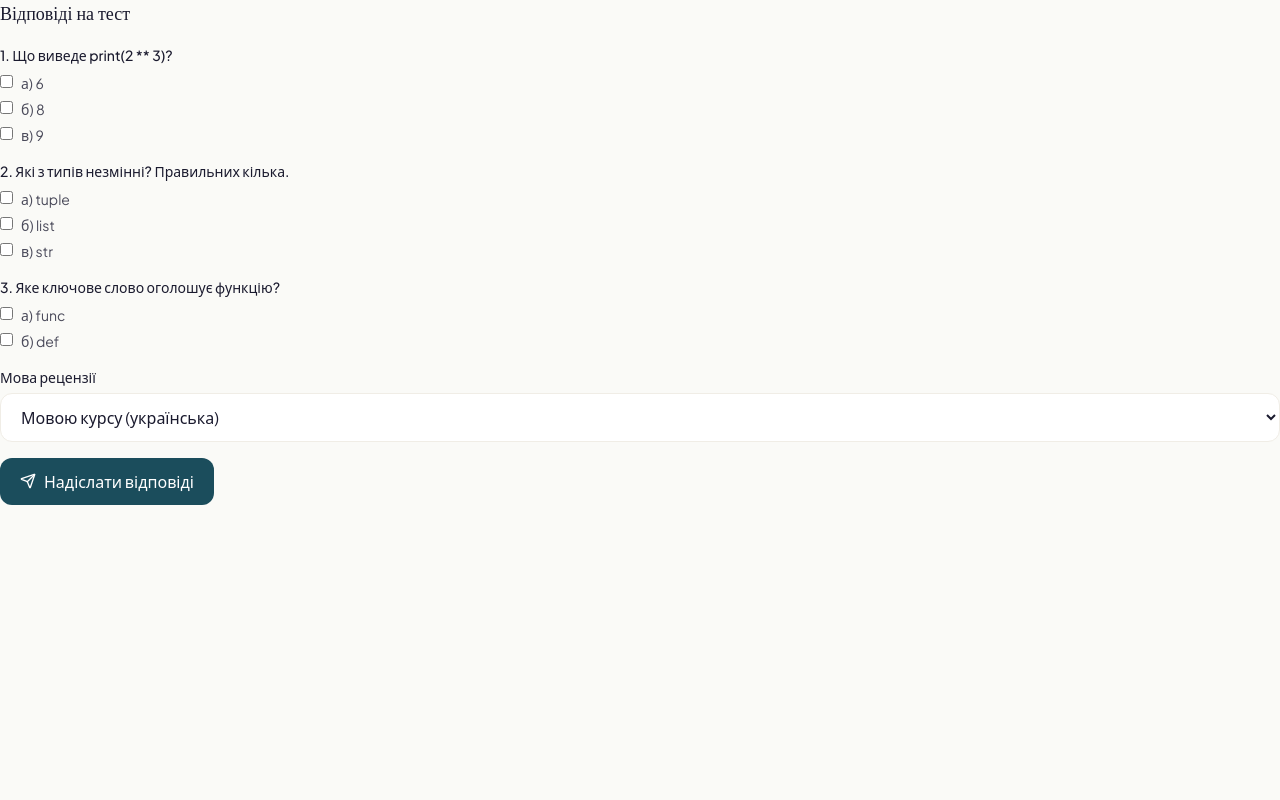
Test: PortalTestForm — підтвердження для питань без позначки › asks first, naming the questions left blank and that they count as wrong
Click the checkbox labelled "б) 8" at point(6, 107), box [0,101,13,114]
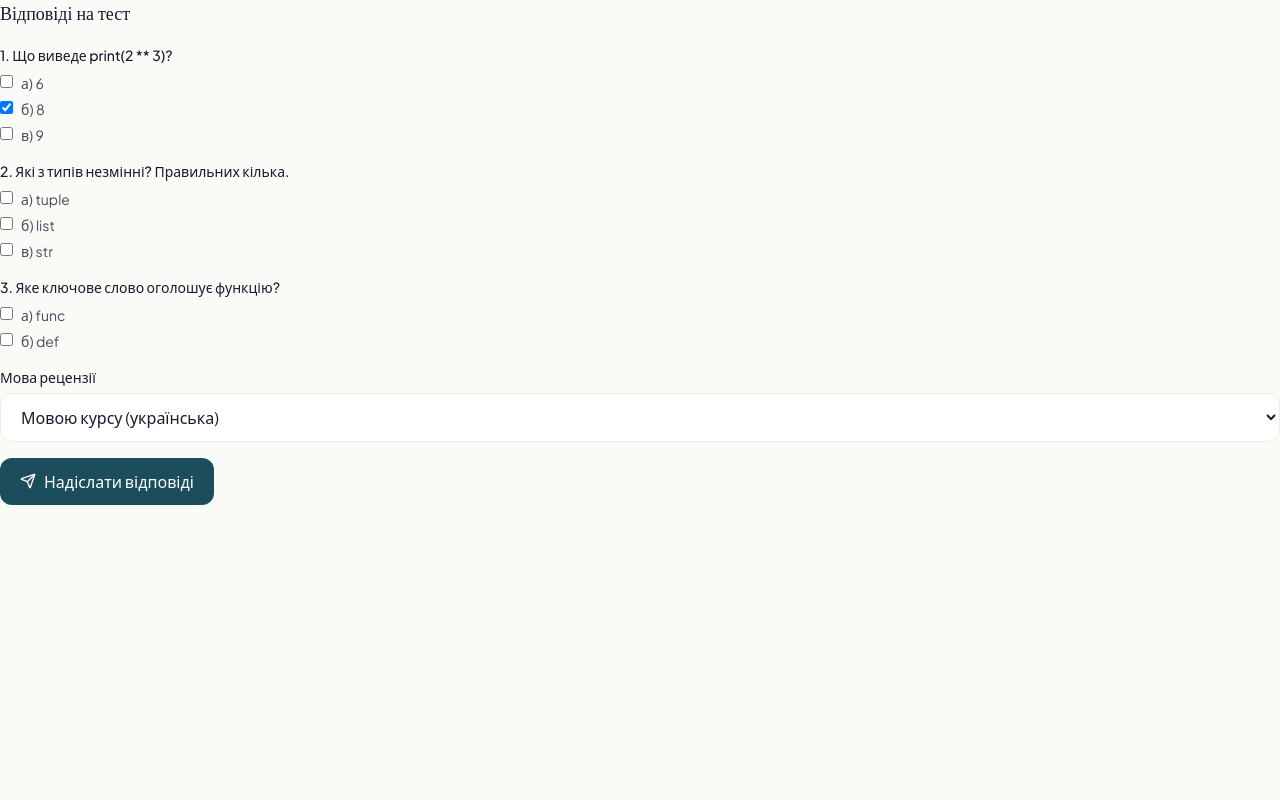
Click the button "Надіслати відповіді" at point(107, 481), box [0,458,214,505]
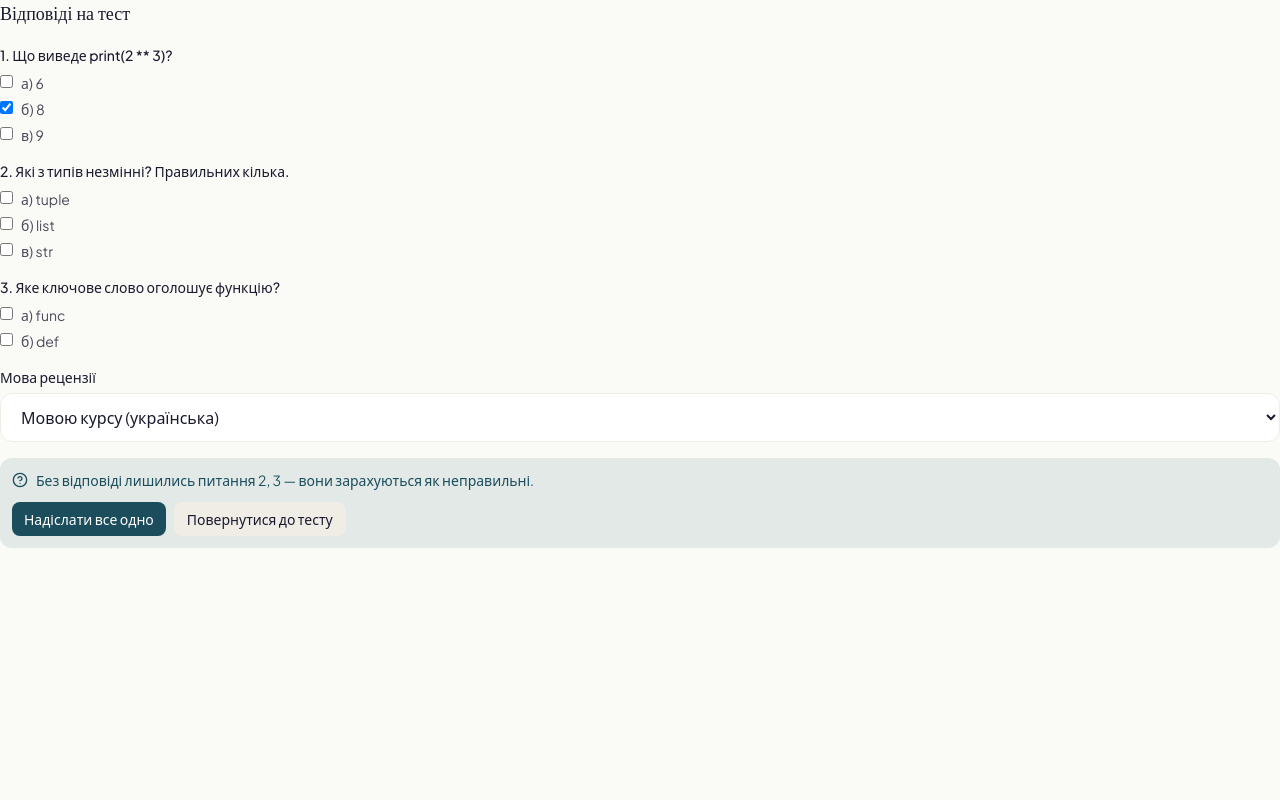
Now the text "Без відповіді лишились питання 2, 3 — вони зарахуються як неправильні." is shown, box [12,471,534,489]
